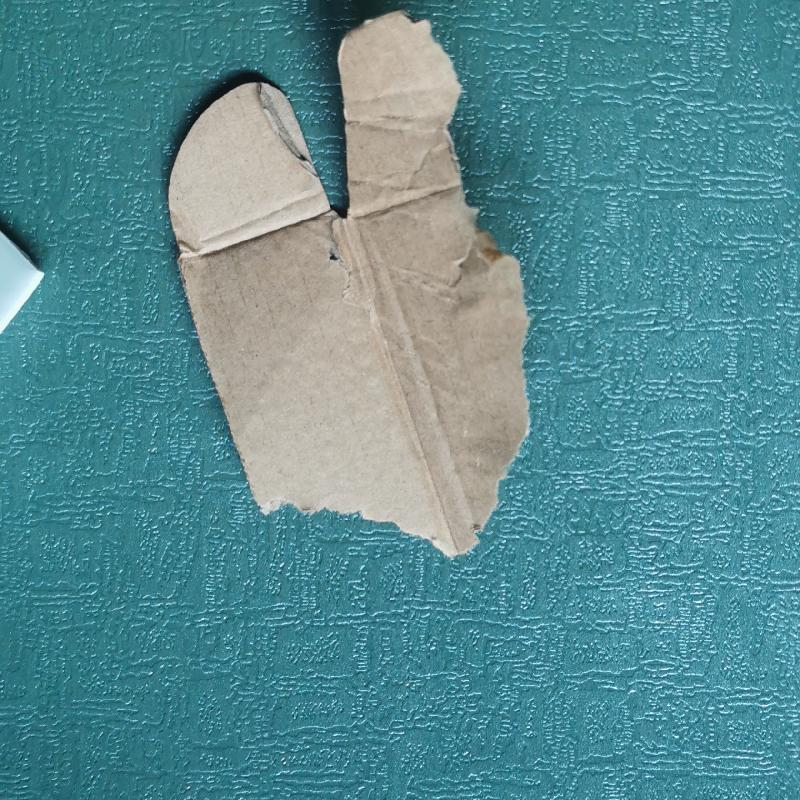boxes: (159, 11, 540, 561)
